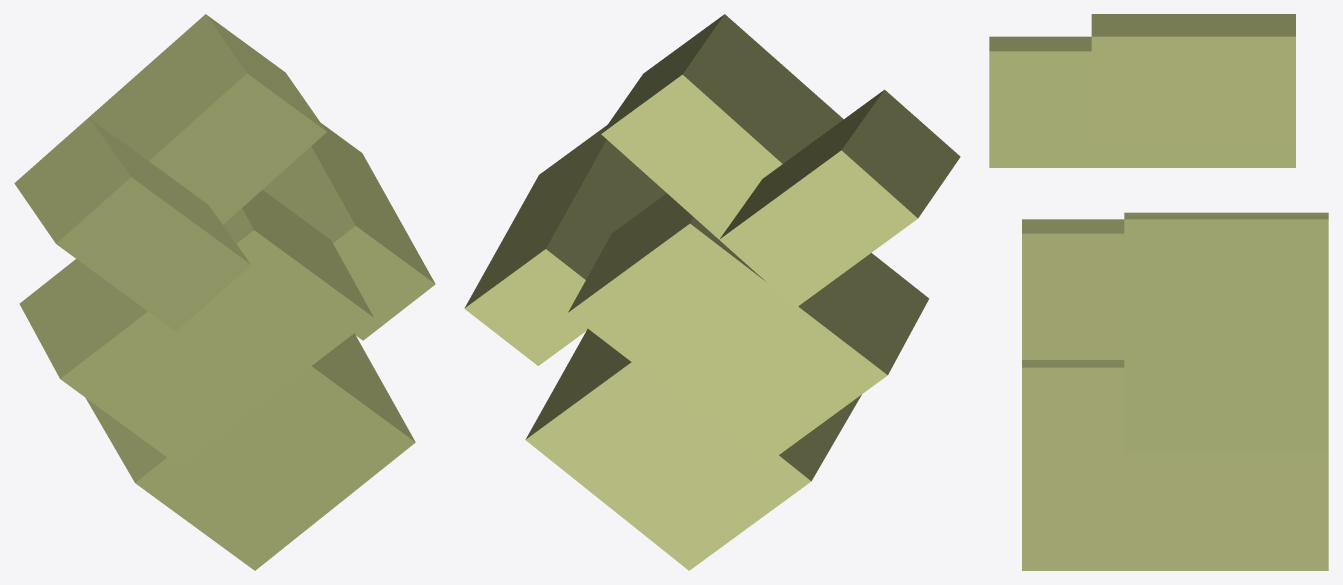
The picture shows the model from 3 angles, left to right: view 1: azimuth 30°, elevation 25°; view 2: azimuth 150°, elevation 25°; view 3: azimuth 270°, elevation 25°; orthographic projection. The views are drawn at different scales.
Visible parts, largest first — view 1: 0_1_1_3_2_2_3_0_2_1; view 2: 0_1_1_3_2_2_3_0_2_1; view 3: 0_1_1_3_2_2_3_0_2_1.
Part boxes in pixels (x1,y1,x2,y2): 0_1_1_3_2_2_3_0_2_1: [14, 14, 435, 570]; 0_1_1_3_2_2_3_0_2_1: [464, 14, 960, 570]; 0_1_1_3_2_2_3_0_2_1: [989, 14, 1328, 570].
Size of the model in its own units: 15.34 by 19.21 by 9.96.
